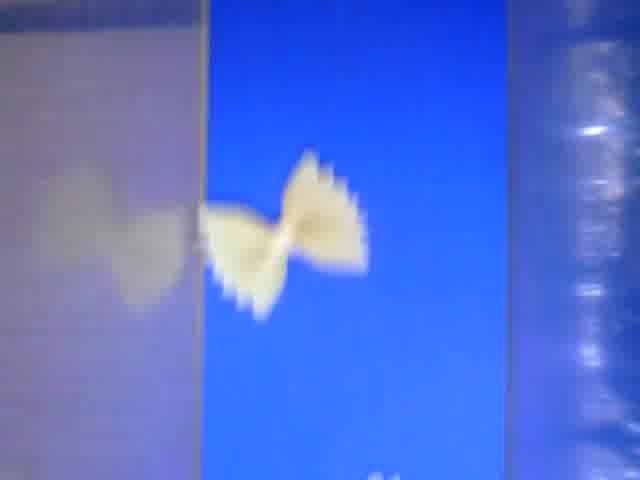farfalle: (202, 147, 370, 320)
